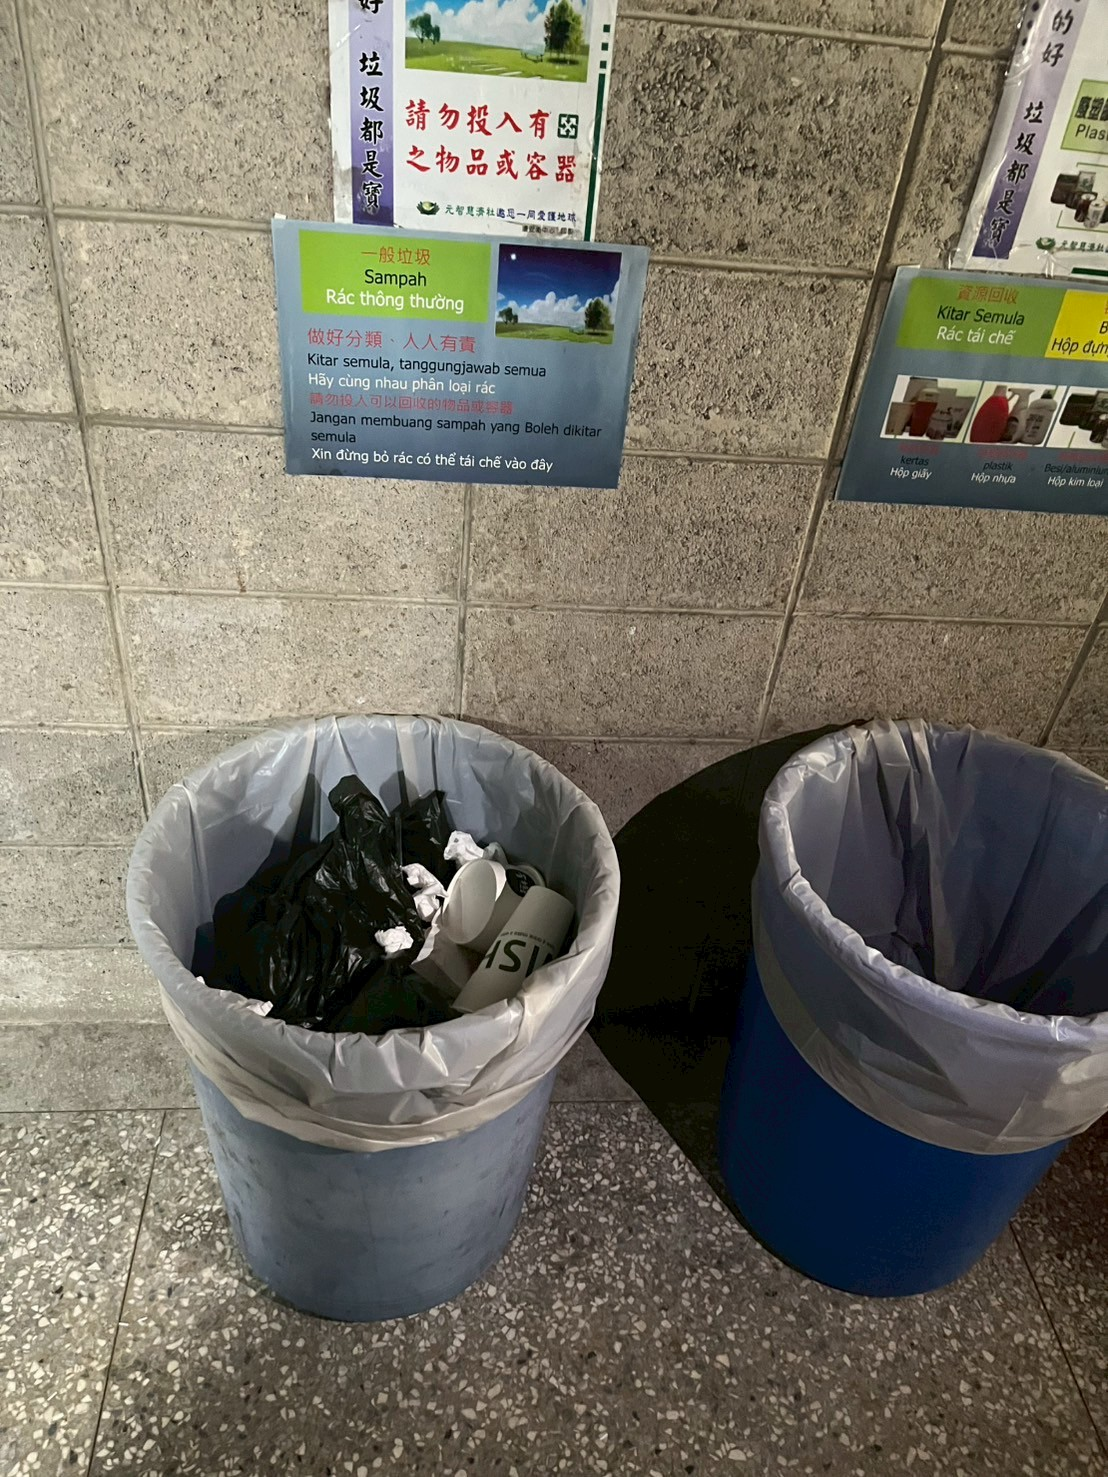overflow_bin: (102, 686, 652, 1349)
